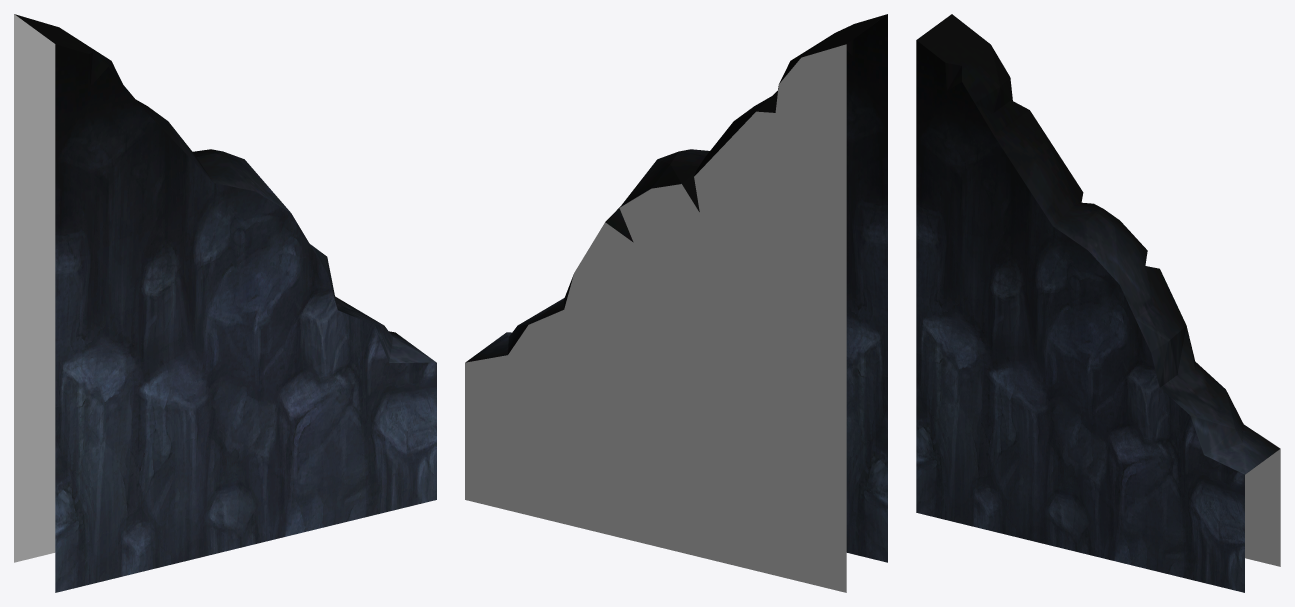
File: mine_fade_transition_05.fbx
3 renders of one model, left to right at view 1: azimuth 30°, elevation 25°; view 2: azimuth 150°, elevation 25°; view 3: azimuth 330°, elevation 25°, orthographic. The views are drawn at different scales.
Visible parts, largest first — view 1: obj2.013; view 2: obj2.013; view 3: obj2.013.
Boxes of the visible parts, x1,y1,x2,y2 form: obj2.013: [14, 14, 436, 592]; obj2.013: [465, 14, 887, 592]; obj2.013: [916, 14, 1280, 592].
Size of the model in its own units: 4 by 5.5 by 0.75.
